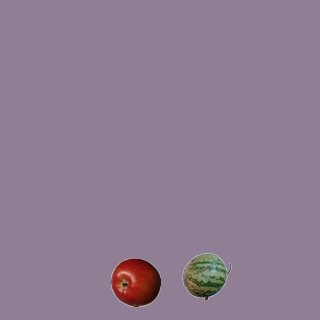Apple Braeburn: (110, 257, 160, 307)
Watermelon: (181, 251, 231, 301)
